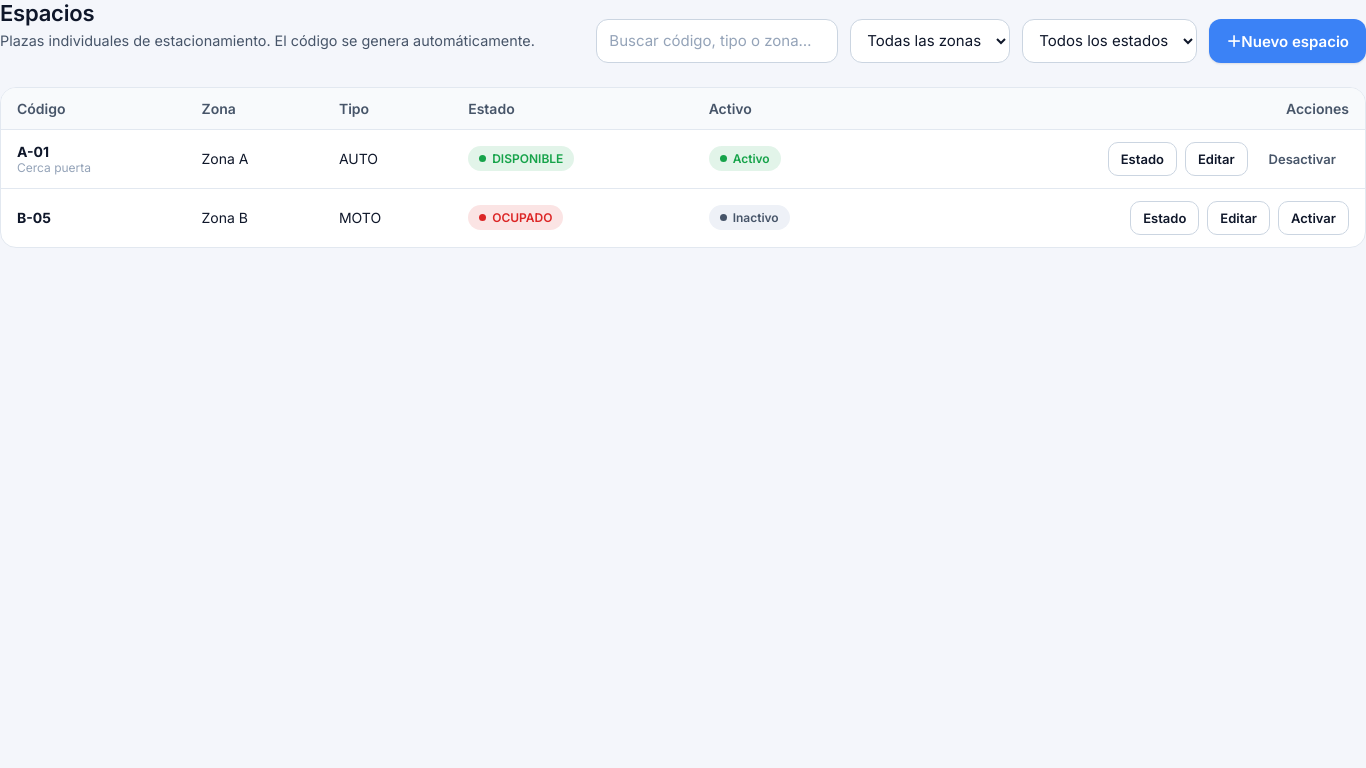
Test: EspaciosPage › valida zona requerida al crear
Check: the text "A-01" is shown, box [17,143,49,160]
Step 1. Click the button "＋Nuevo espacio" → (1288, 41), box [1209,19,1365,63]
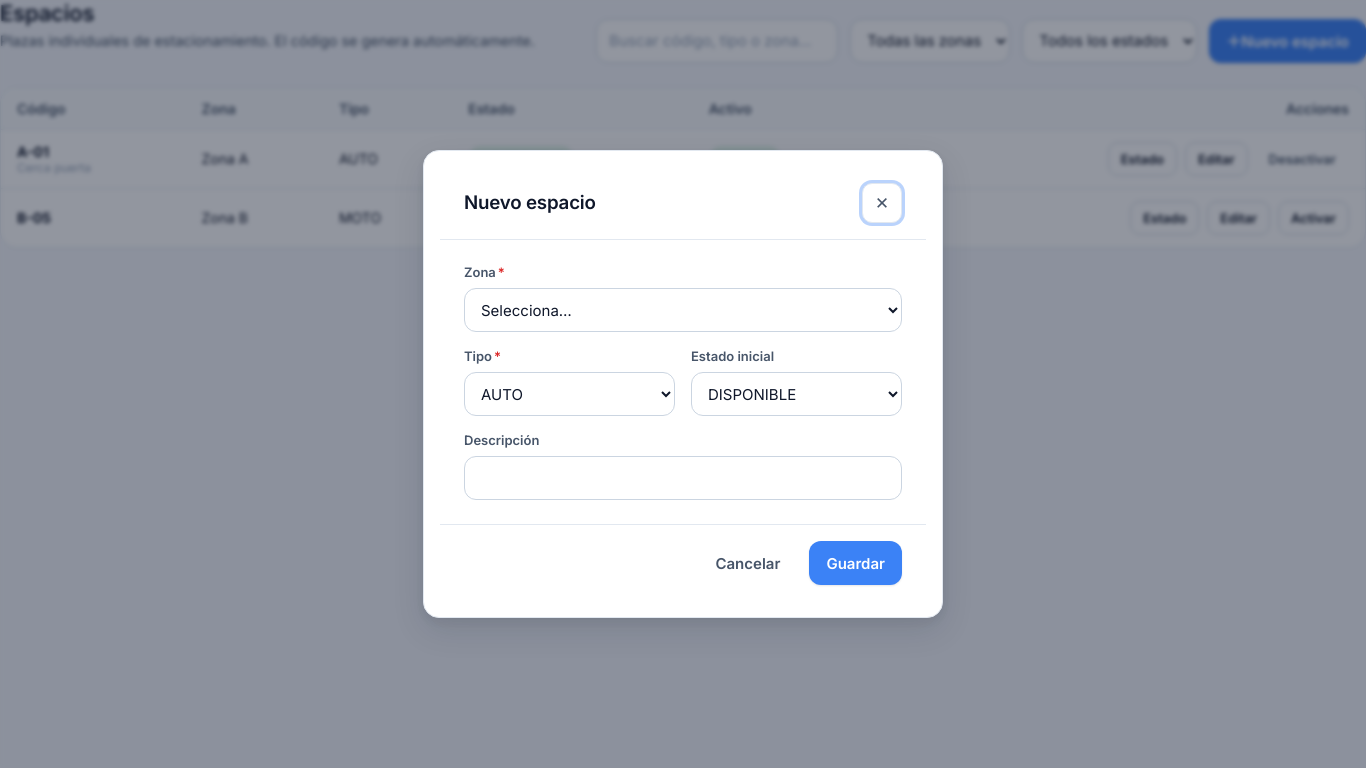
Step 2. Click the button "Guardar" → (856, 563), box [809,541,902,585]
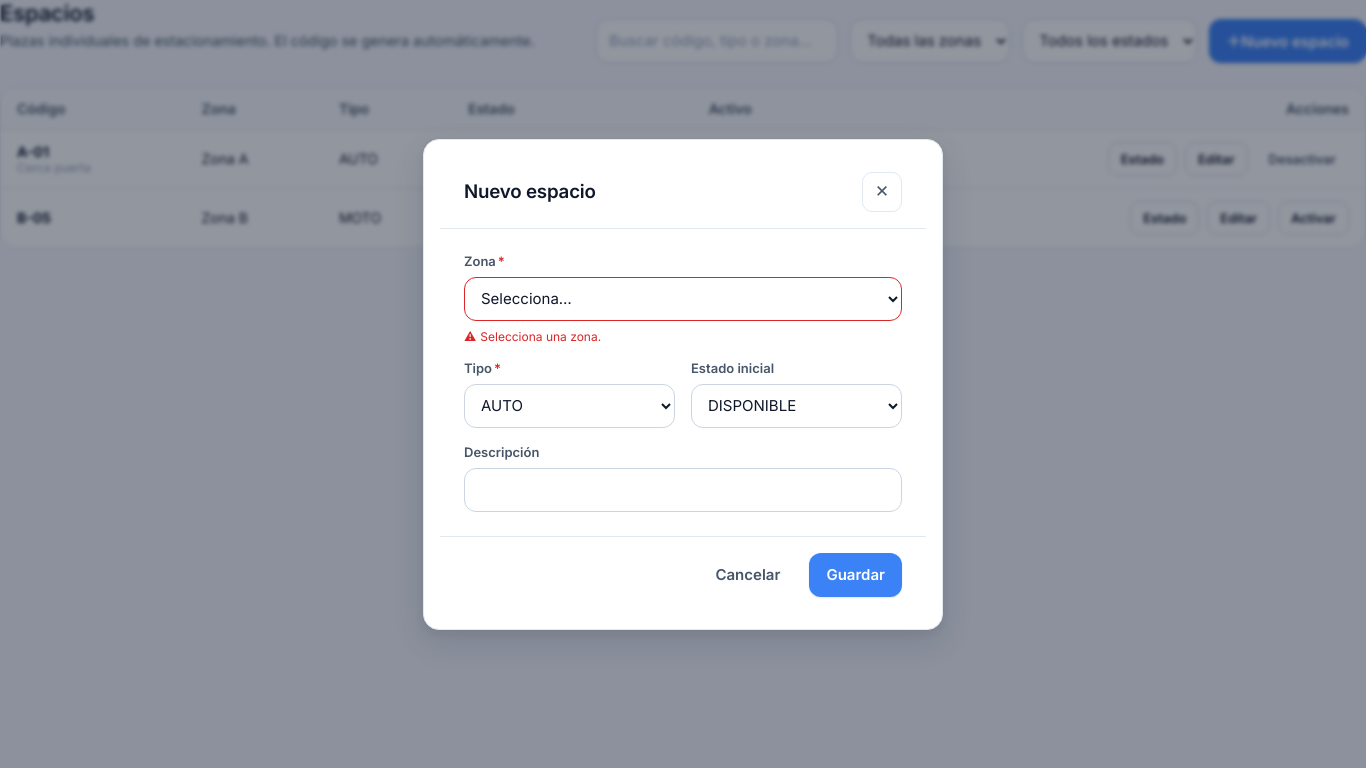
Check: the text "Selecciona una zona." is shown, box [480,328,601,344]
